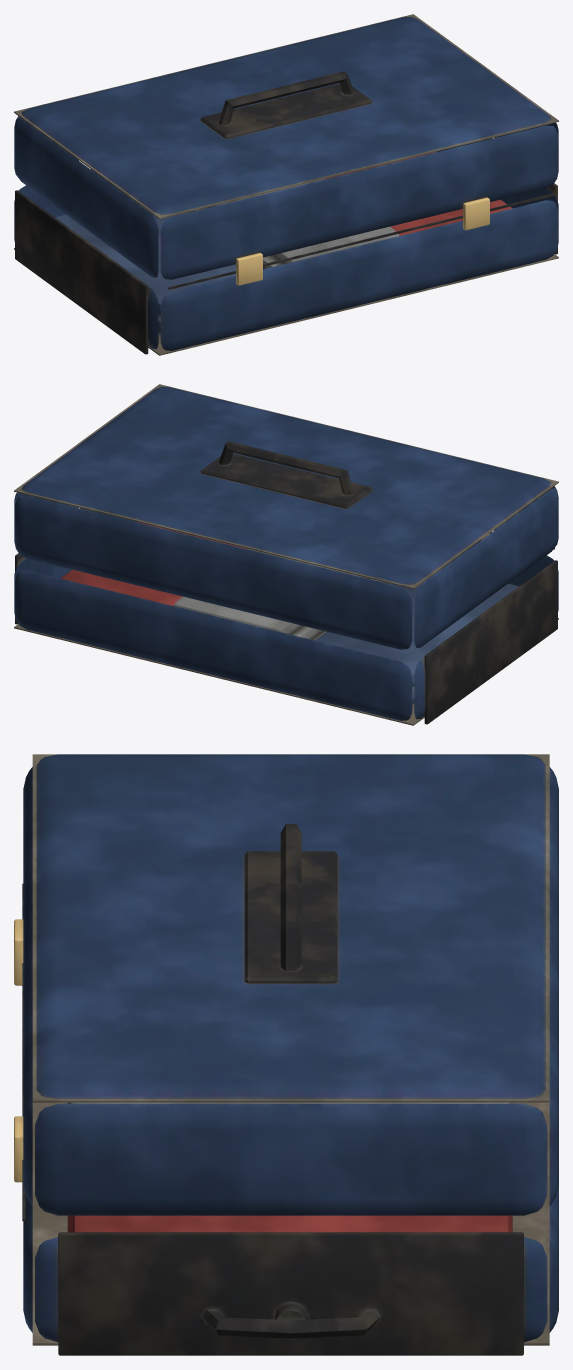
Rendered from mala_viagem.glb.
3 views of the same model, one above another, from view 1: azimuth 30°, elevation 25°; view 2: azimuth 150°, elevation 25°; view 3: azimuth 270°, elevation 25° (orthographic). The views are drawn at different scales.
Parts seen in each view (by area): view 1: tampa, mala; view 2: tampa, mala; view 3: tampa, mala.
Part boxes in pixels (box(x1,y1,x2,y2)): tampa: box(14, 14, 558, 289); mala: box(14, 138, 558, 355); tampa: box(14, 384, 558, 649); mala: box(14, 508, 558, 725); tampa: box(14, 754, 558, 1221); mala: box(23, 1102, 558, 1355).
Bounding box in the file's own units: 0.762 × 0.2883 × 0.468.
Materials: 2 (2 with a texture image).
